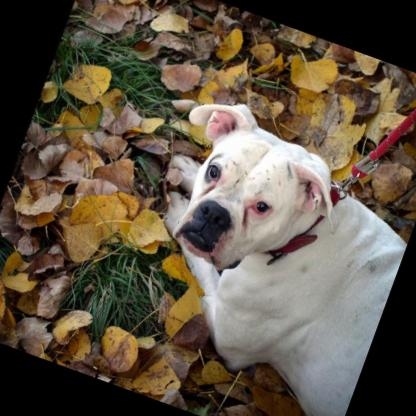boxer: (98, 73, 416, 416)
